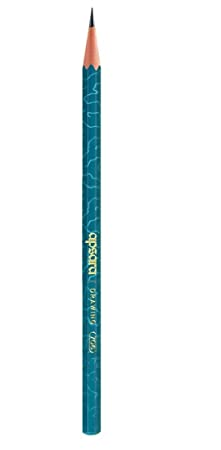pencil: (70, 2, 112, 441)
